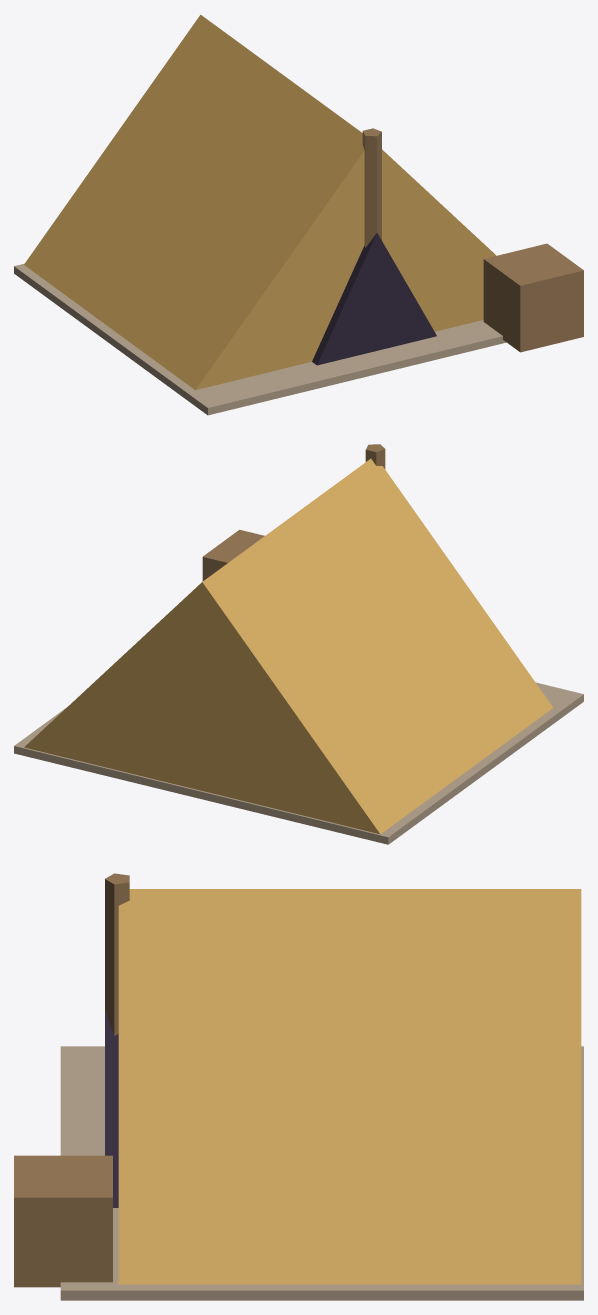
Rendered from sand-landmark-s1.glb.
3 renders of one model, top to bottom at view 1: azimuth 30°, elevation 25°; view 2: azimuth 150°, elevation 25°; view 3: azimuth 270°, elevation 25°, orthographic. The views are drawn at different scales.
Visible parts, largest first — view 1: sand-landmark-s1; view 2: sand-landmark-s1; view 3: sand-landmark-s1.
Part boxes in pixels (left/top/right/bottom): sand-landmark-s1: left=14, top=14, right=583, bottom=415; sand-landmark-s1: left=14, top=444, right=583, bottom=844; sand-landmark-s1: left=14, top=873, right=583, bottom=1300.
Bounding box in the file's own units: 1.05 × 0.6 × 1.03.
